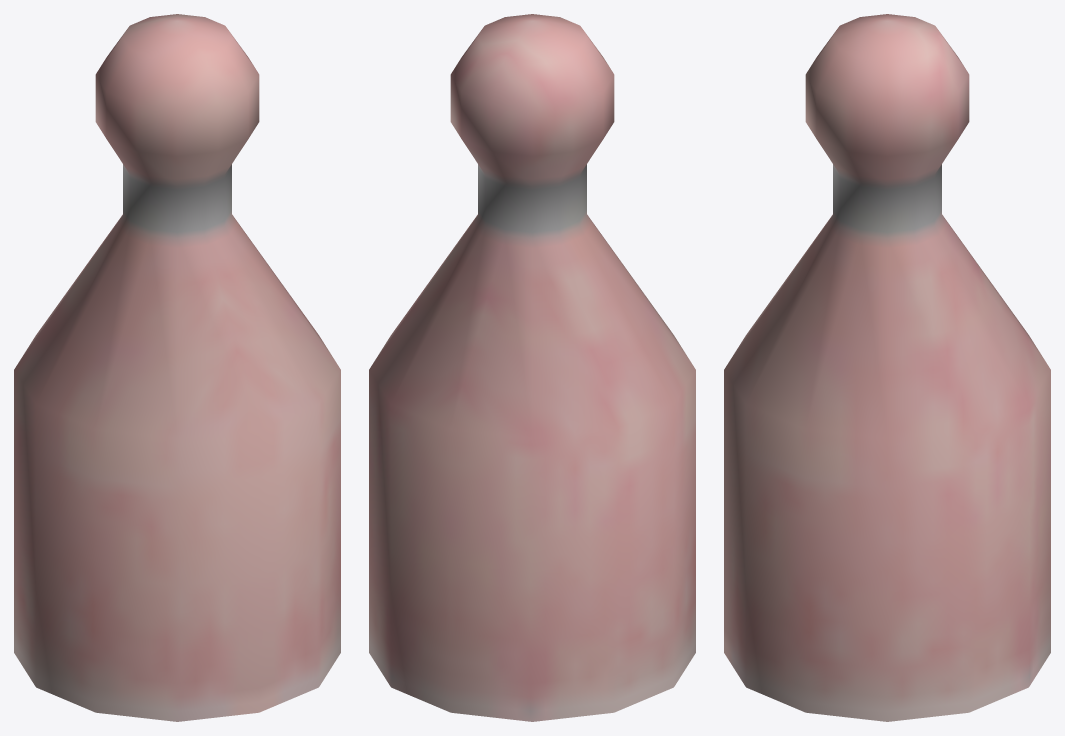
The model's file is perfume_bottle01_lod0.glb.
3 renders of one model, left to right at view 1: azimuth 30°, elevation 25°; view 2: azimuth 150°, elevation 25°; view 3: azimuth 270°, elevation 25°, orthographic.
Parts seen in each view (by area): view 1: surf0; view 2: surf0; view 3: surf0.
Boxes of the visible parts, x1,y1,x2,y2 form: surf0: [14, 14, 340, 721]; surf0: [369, 14, 695, 721]; surf0: [724, 14, 1050, 721].
Size of the model in its own units: 3 by 6.4 by 3.
